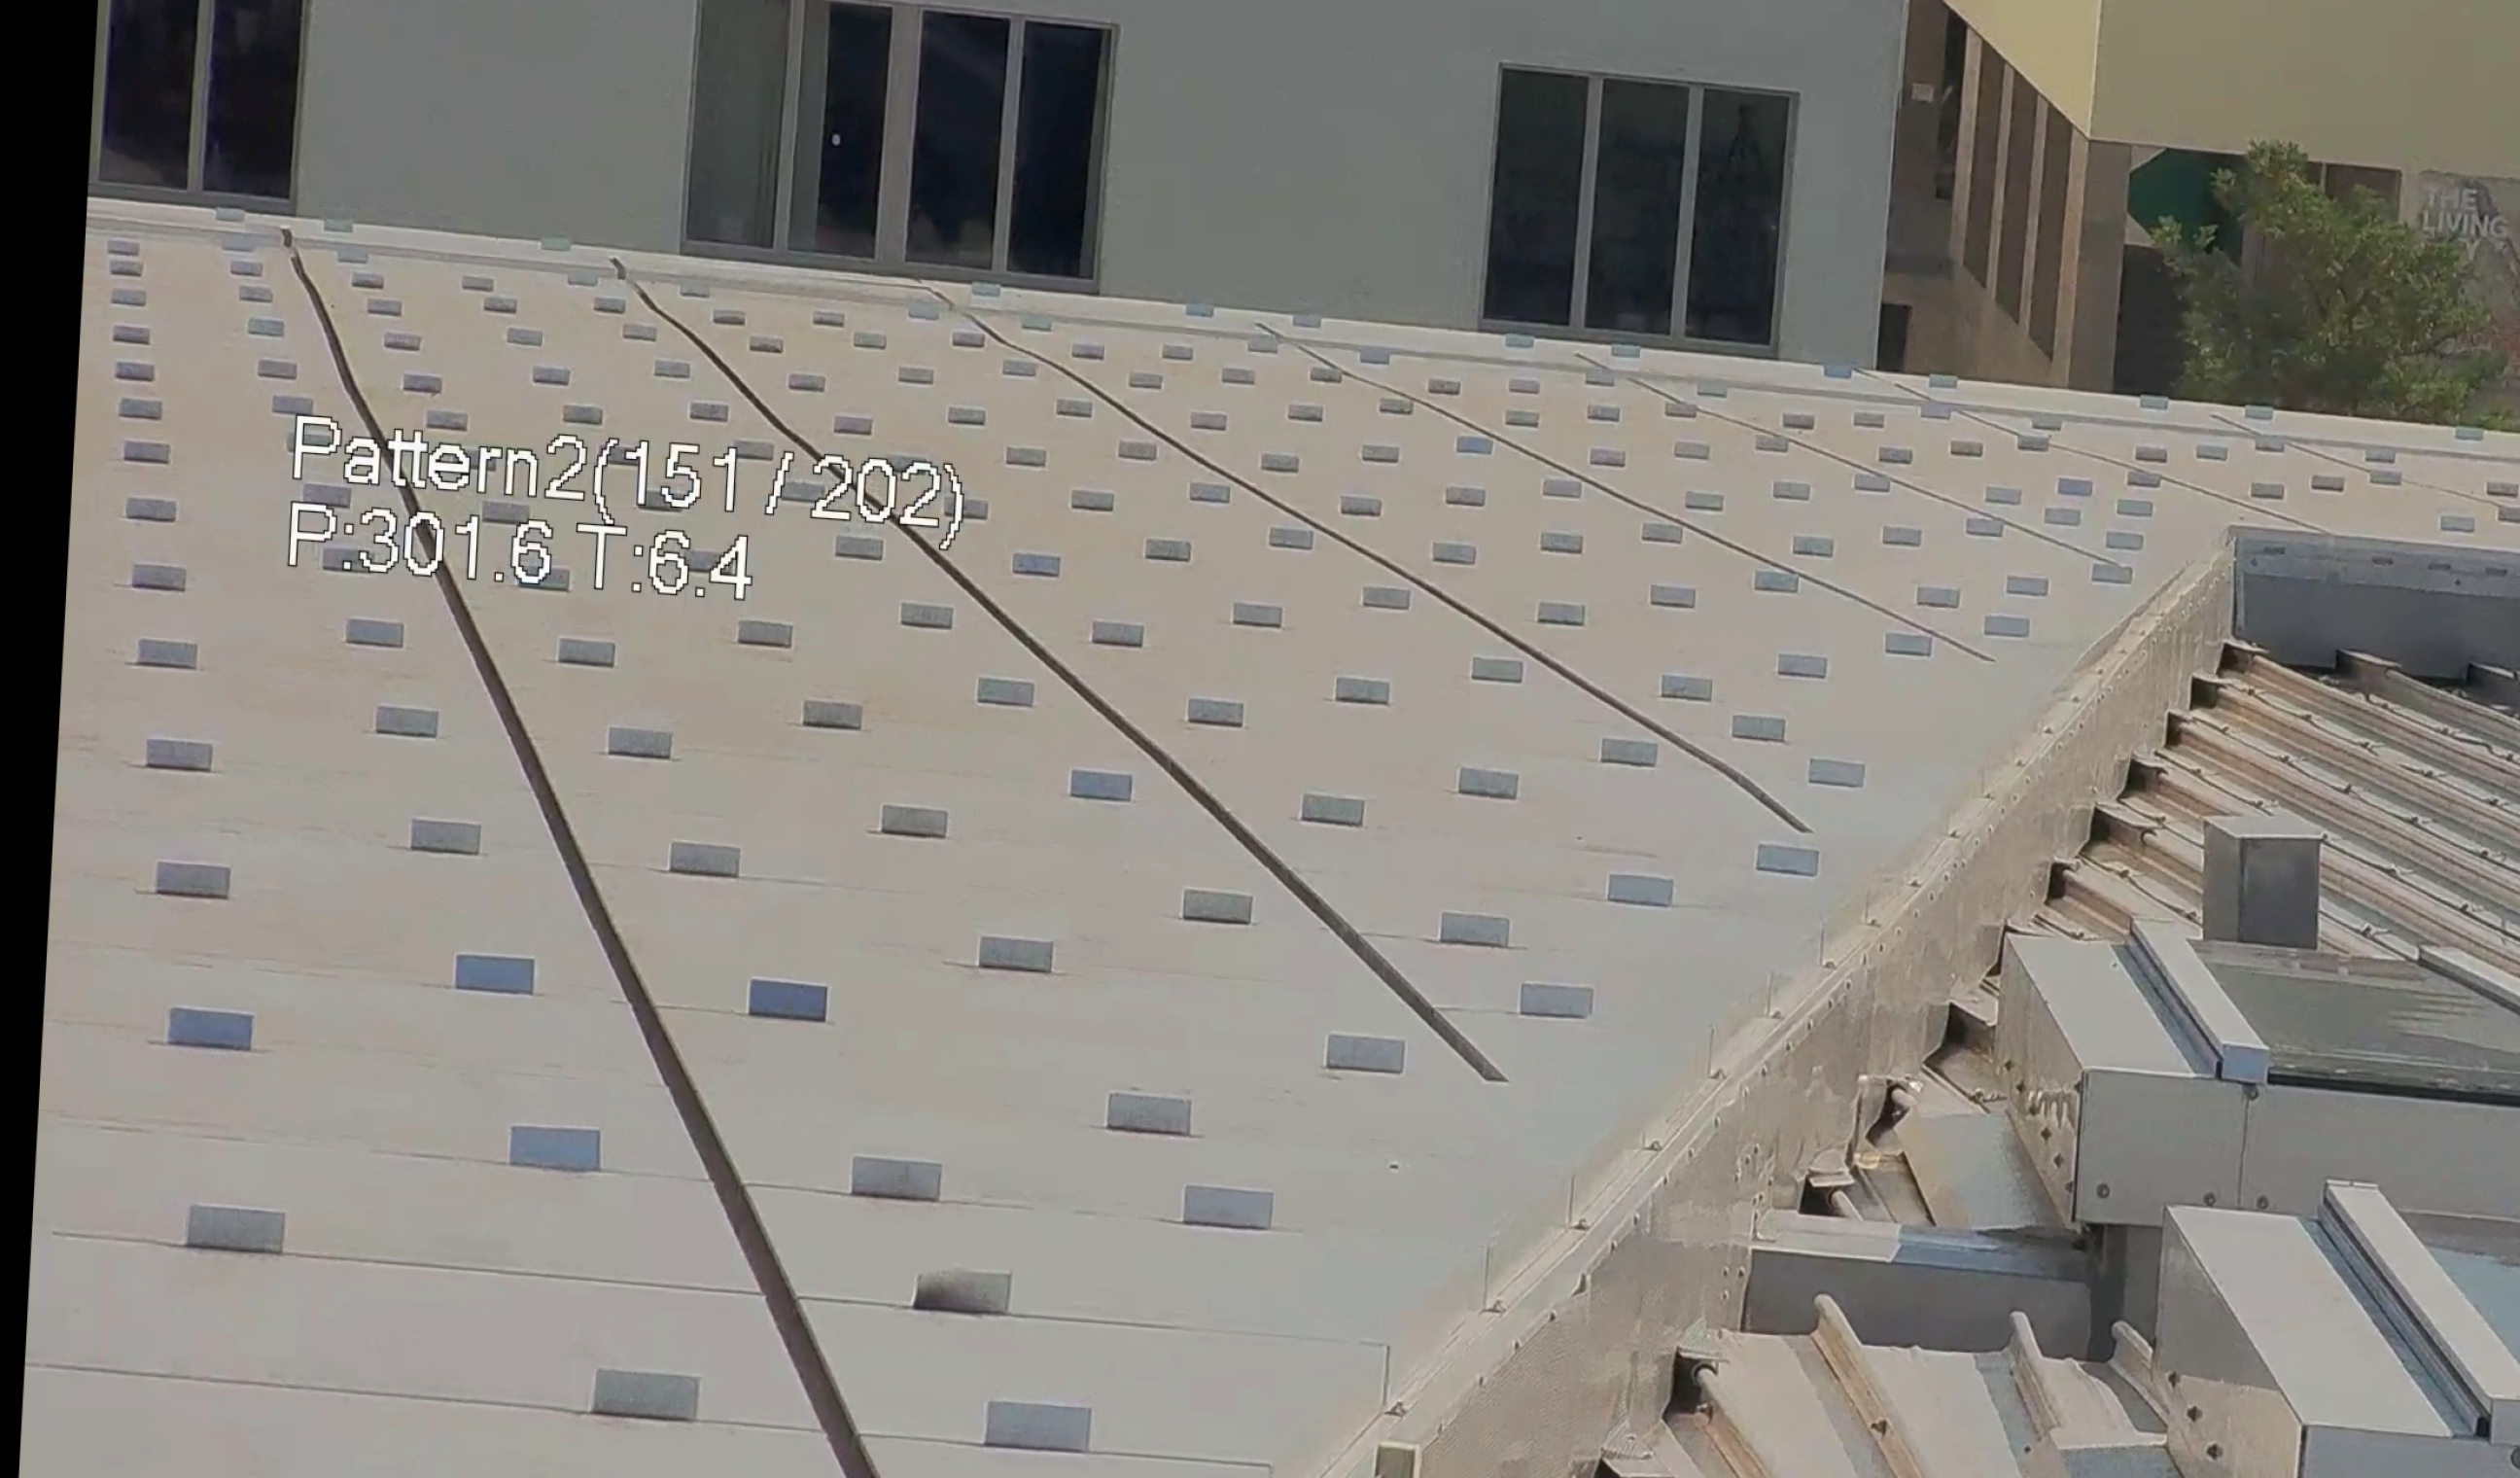Other: (1555, 1439, 1697, 1478)
